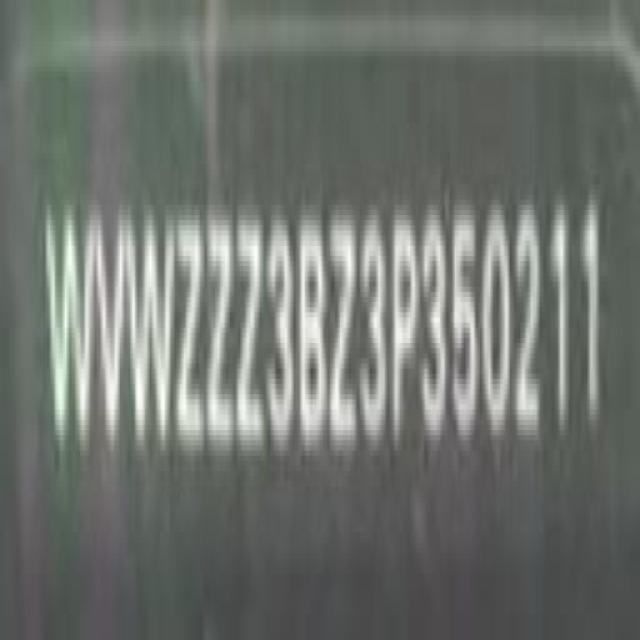0: (482, 198, 512, 447)
1: (580, 190, 604, 442), (551, 194, 573, 446)
2: (514, 195, 544, 446)
3: (266, 208, 296, 453), (421, 198, 449, 451), (361, 212, 389, 454)
5: (452, 199, 482, 446)
B: (298, 211, 327, 454)
P: (393, 208, 418, 444)
V: (94, 201, 129, 451)
W: (46, 196, 94, 458), (127, 199, 173, 460)
Z: (331, 204, 360, 454), (176, 203, 204, 461), (236, 200, 264, 458), (207, 200, 235, 456)
